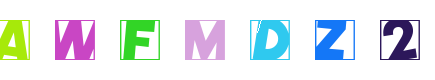2: (354, 0, 434, 80)
A: (0, 0, 80, 80)
D: (181, 0, 261, 80)
F: (96, 0, 176, 80)
M: (174, 0, 254, 80)
W: (38, 0, 118, 80)
Z: (258, 0, 338, 80)
